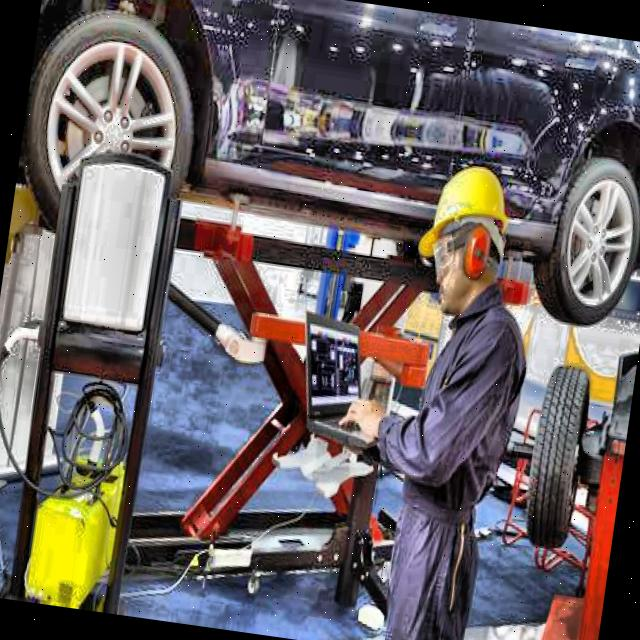helmet: (406, 150, 520, 330)
